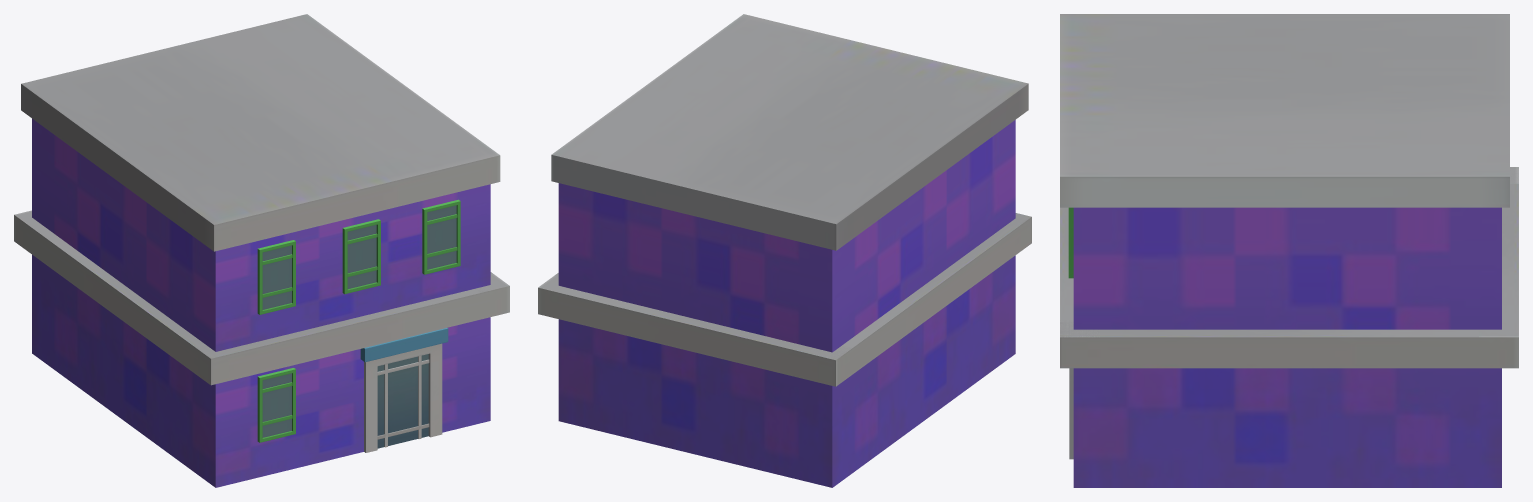
File: nha_tim.fbx
3 views of the same model, side by side, from view 1: azimuth 30°, elevation 25°; view 2: azimuth 150°, elevation 25°; view 3: azimuth 270°, elevation 25° (orthographic). The views are drawn at different scales.
Parts seen in each view (by area): view 1: nha_tim; view 2: nha_tim; view 3: nha_tim.
Part boxes in pixels (<box>): nha_tim: <box>14,14,509,487</box>; nha_tim: <box>538,14,1031,487</box>; nha_tim: <box>1060,14,1518,487</box>.
Size of the model in its own units: 1569 by 1349 by 1789.
